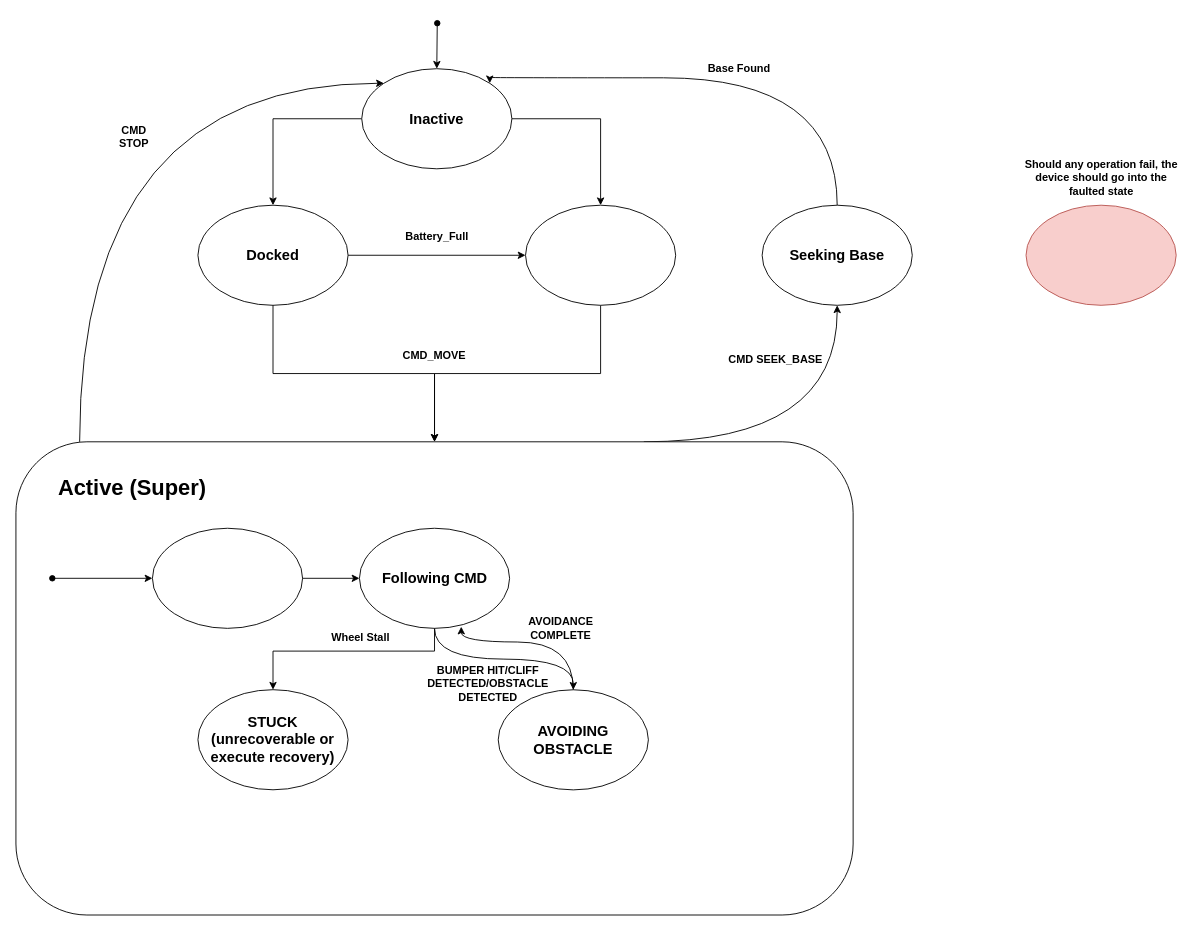
This 1198x931 diagram has some shape labels left out. The centre of each missing label's shape, as x and y in pixels:
"Executing" goes at (x=227, y=577).
"Faulted" goes at (x=1100, y=254).
"Idle" goes at (x=600, y=254).
